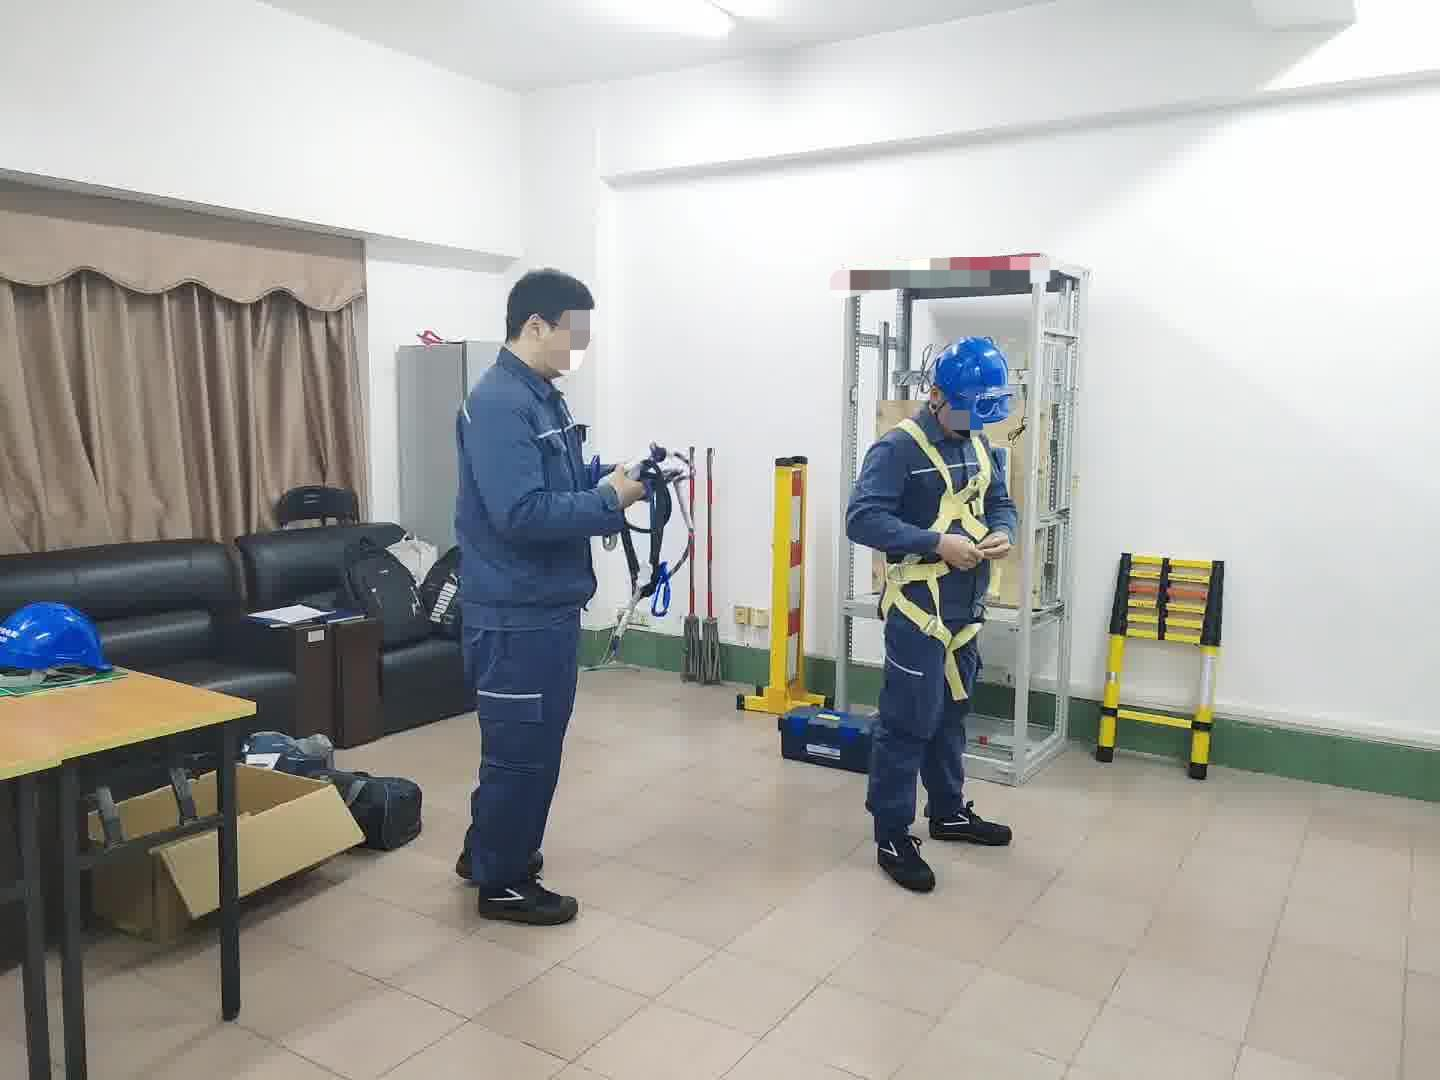halt: (933, 334, 1014, 436)
inear: (927, 385, 952, 421)
noear: (525, 310, 562, 361)
unhalt: (503, 270, 599, 376)
